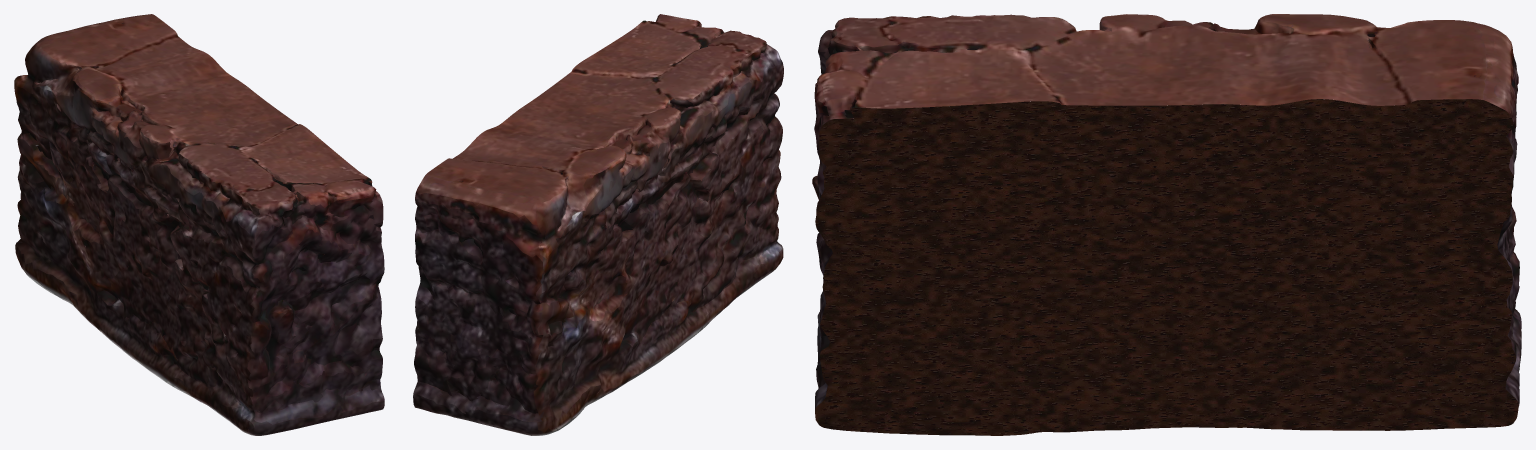
File: chocolate-brownie-3.glb
3 views of the same model, side by side, from view 1: azimuth 30°, elevation 25°; view 2: azimuth 150°, elevation 25°; view 3: azimuth 270°, elevation 25° (orthographic). The views are drawn at different scales.
Visible parts, largest first — view 1: brownie-physical-calibration-80x35x65mm; view 2: brownie-physical-calibration-80x35x65mm; view 3: brownie-physical-calibration-80x35x65mm.
Part boxes in pixels (left/top/right/bottom): brownie-physical-calibration-80x35x65mm: left=14, top=14, right=384, bottom=435; brownie-physical-calibration-80x35x65mm: left=413, top=14, right=783, bottom=435; brownie-physical-calibration-80x35x65mm: left=812, top=14, right=1521, bottom=435.
Size of the model in its own units: 0.02 by 0.0346 by 0.0648.
Materials: 2 (2 with a texture image).
